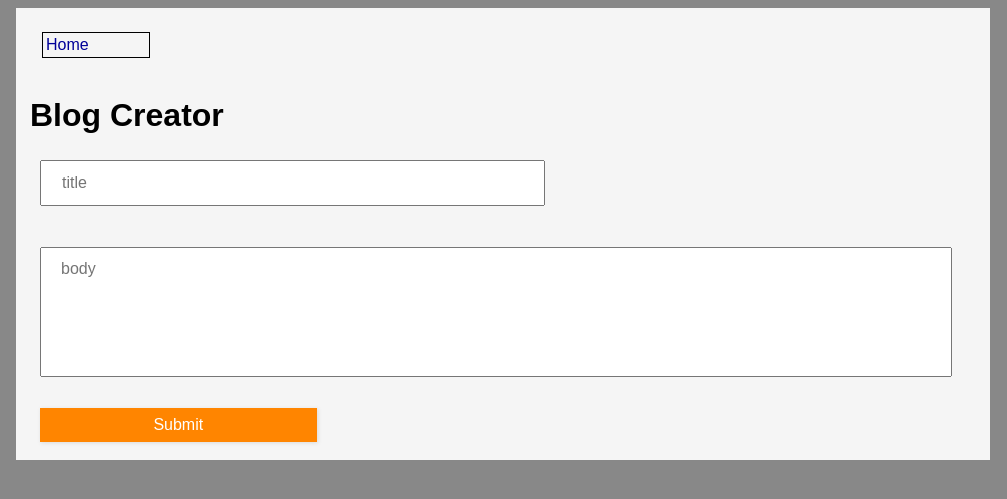
Scenario: should give an error message when user leaves title blank.
What coordinates should you click on to do the following:
click the button
I would click on:
 (178, 425)
Its box is [40,408,317,442].
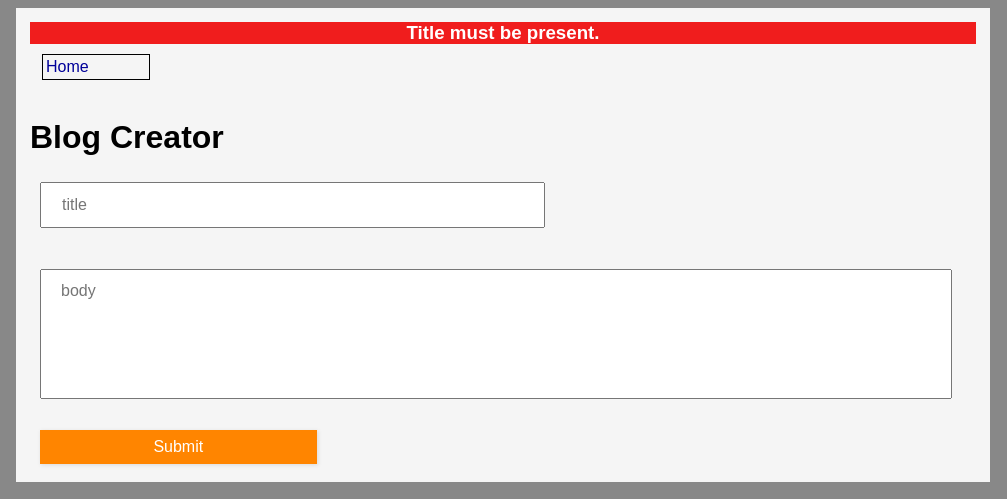
expect the heading "Title must be present." is shown: met, box [30,22,976,44]
